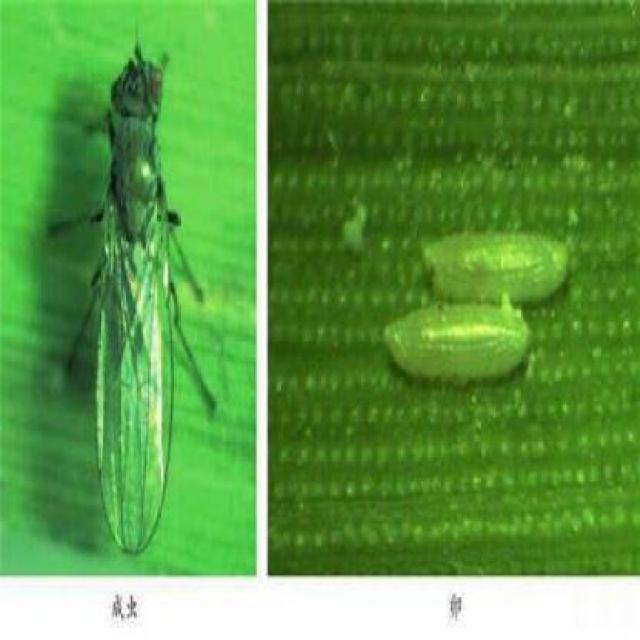whorl-maggot: (370, 306, 536, 389), (418, 219, 577, 303)
